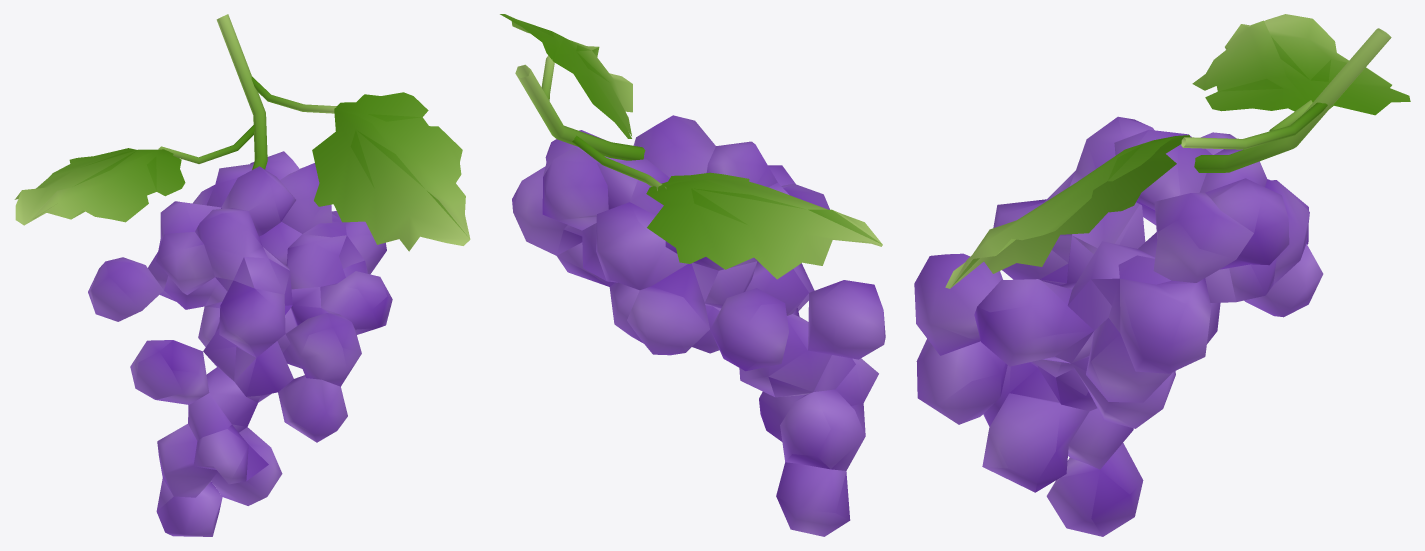
File: grape.glb
The picture shows the model from 3 angles, left to right: view 1: azimuth 30°, elevation 25°; view 2: azimuth 150°, elevation 25°; view 3: azimuth 270°, elevation 25°; orthographic projection. The views are drawn at different scales.
Visible parts, largest first — view 1: grape; view 2: grape; view 3: grape.
Part boxes in pixels (<box>): grape: <box>14,14,470,536</box>; grape: <box>500,14,885,536</box>; grape: <box>914,14,1410,536</box>.
Bounding box in the file's own units: 0.3952 × 0.423 × 0.3211.
Materials: 1 (1 with a texture image).
